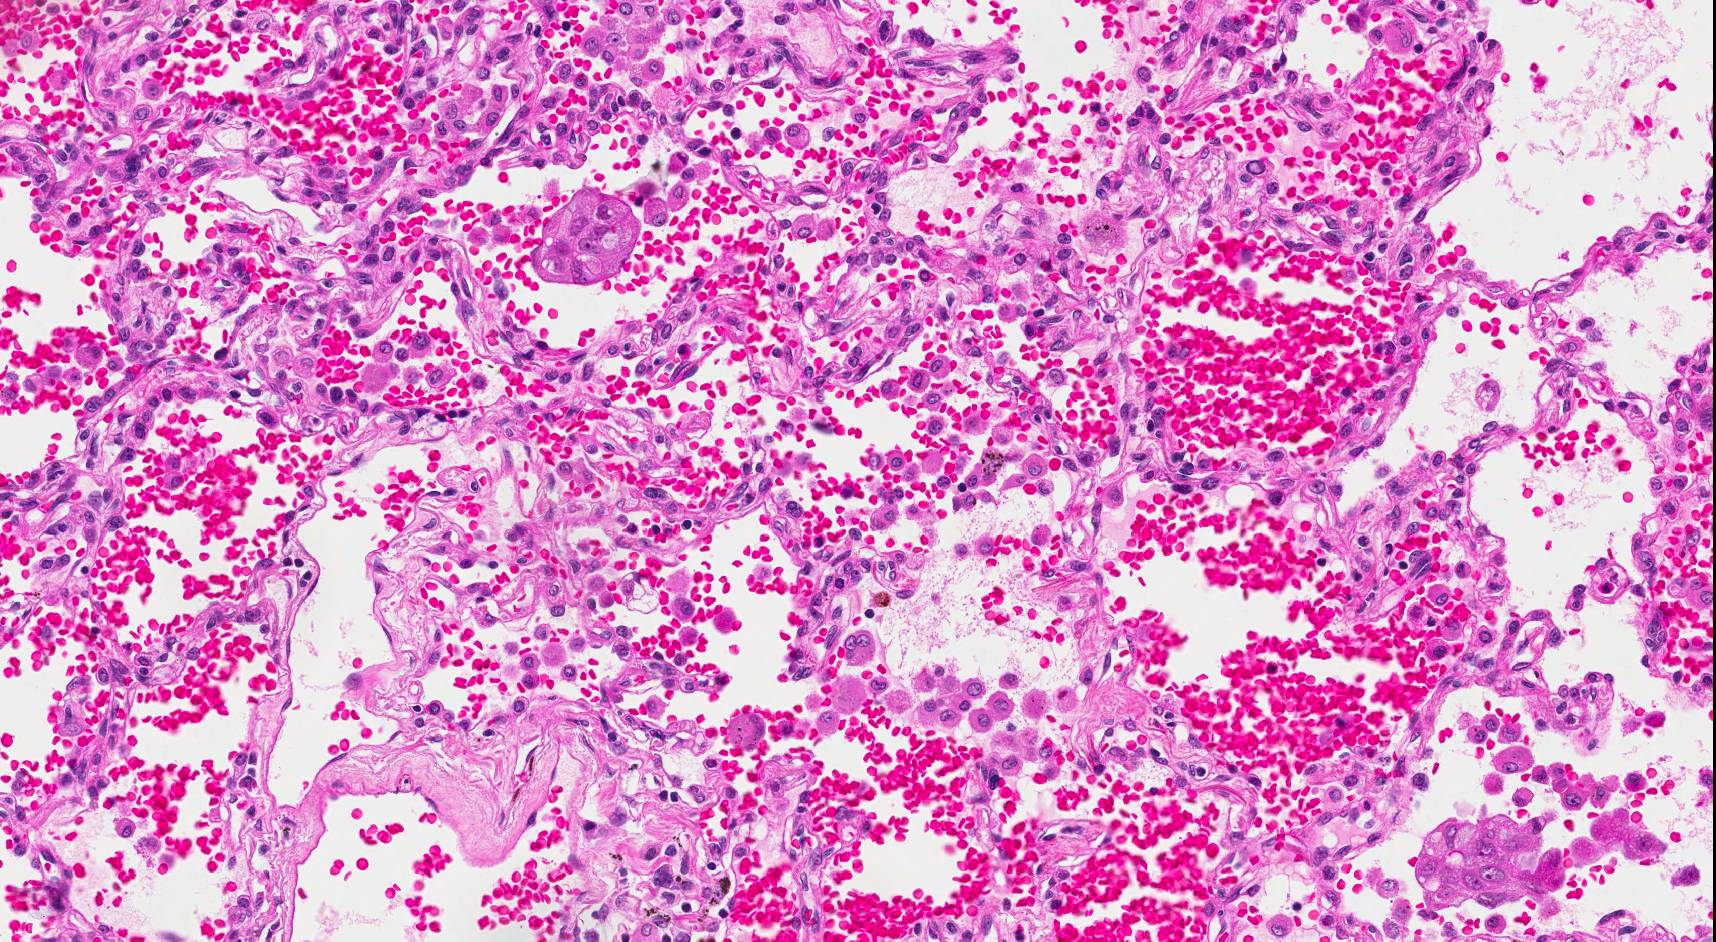stas: (1416, 815, 1563, 910), (531, 189, 640, 284)
